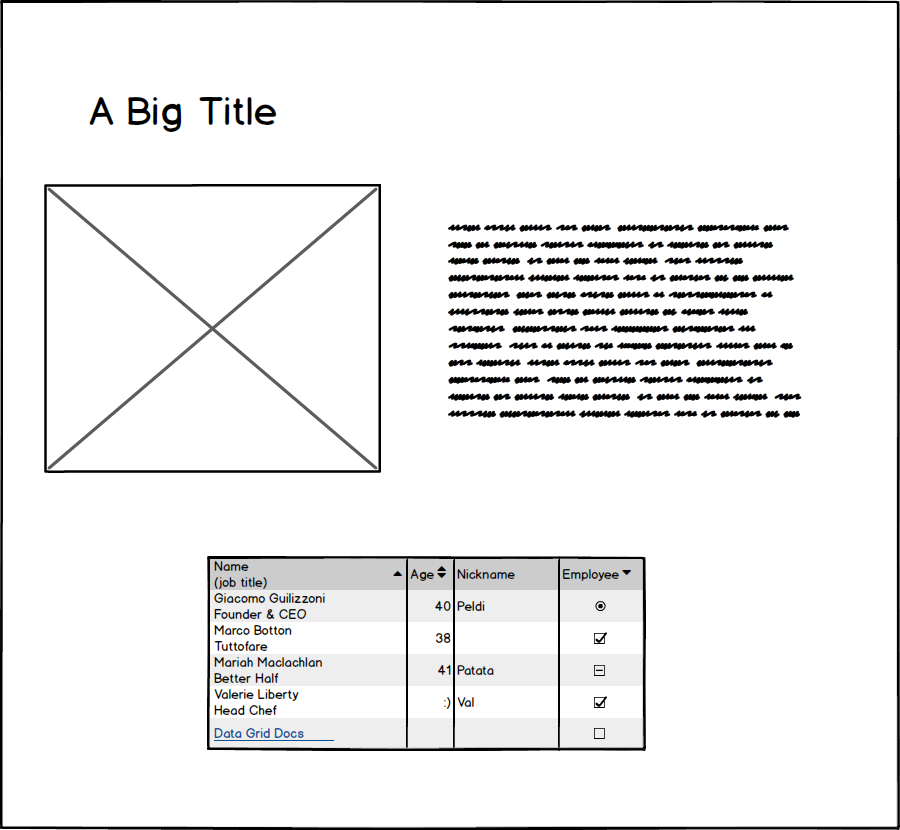h1: (80, 81, 288, 139)
image: (37, 178, 389, 480)
p: (445, 219, 809, 428)
table: (201, 553, 655, 750)
